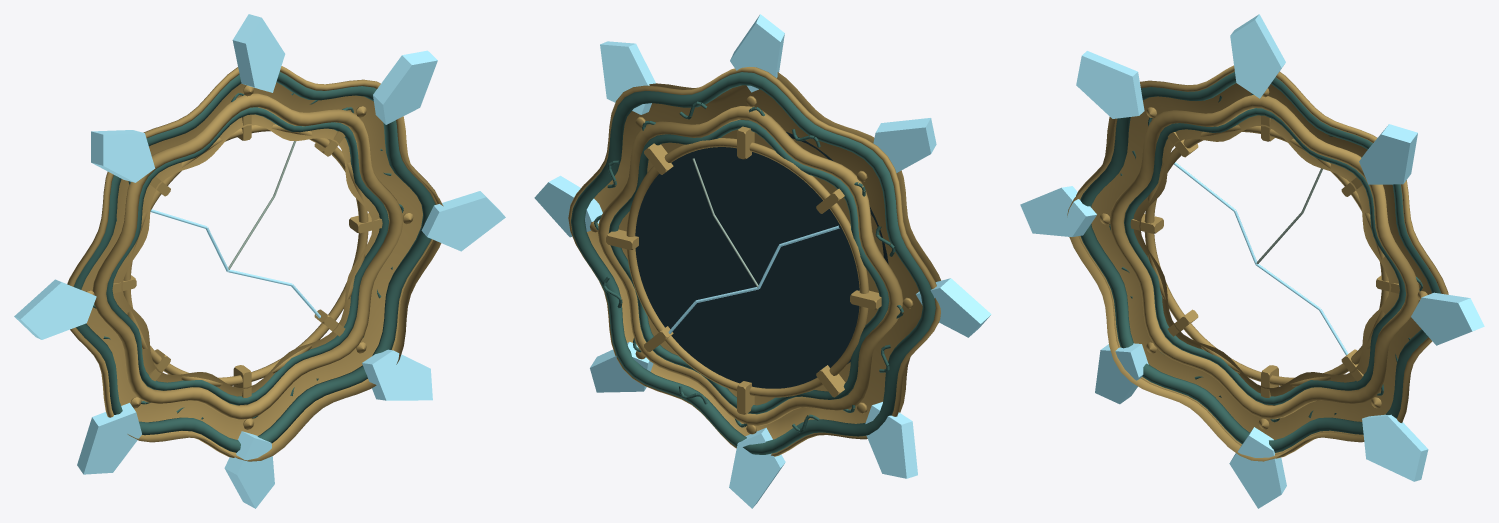
Rendered from mirror_spirit_core.glb.
3 renders of one model, left to right at view 1: azimuth 30°, elevation 25°; view 2: azimuth 150°, elevation 25°; view 3: azimuth 330°, elevation 25°, orthographic.
Visible parts, largest first — view 1: mirror_spirit_core; view 2: mirror_spirit_core; view 3: mirror_spirit_core.
Part boxes in pixels (x1,y1,x2,y2): mirror_spirit_core: [14, 14, 505, 508]; mirror_spirit_core: [534, 14, 991, 508]; mirror_spirit_core: [1020, 14, 1484, 508].
Size of the model in its own units: 1.33 by 1.33 by 0.1697.
